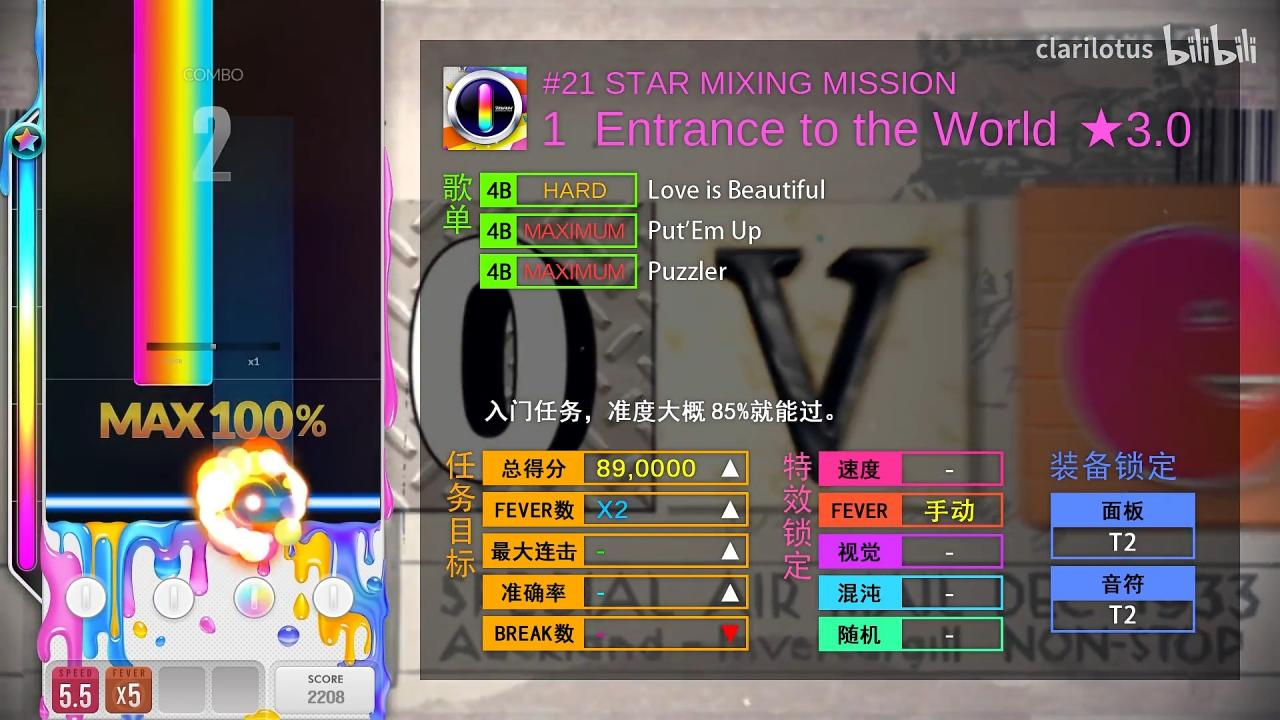hold-start: (134, 370, 213, 386)
